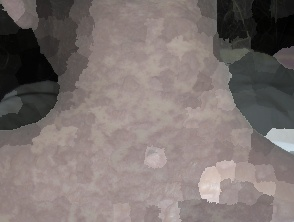SJS-TEN: (11, 11, 276, 215)
